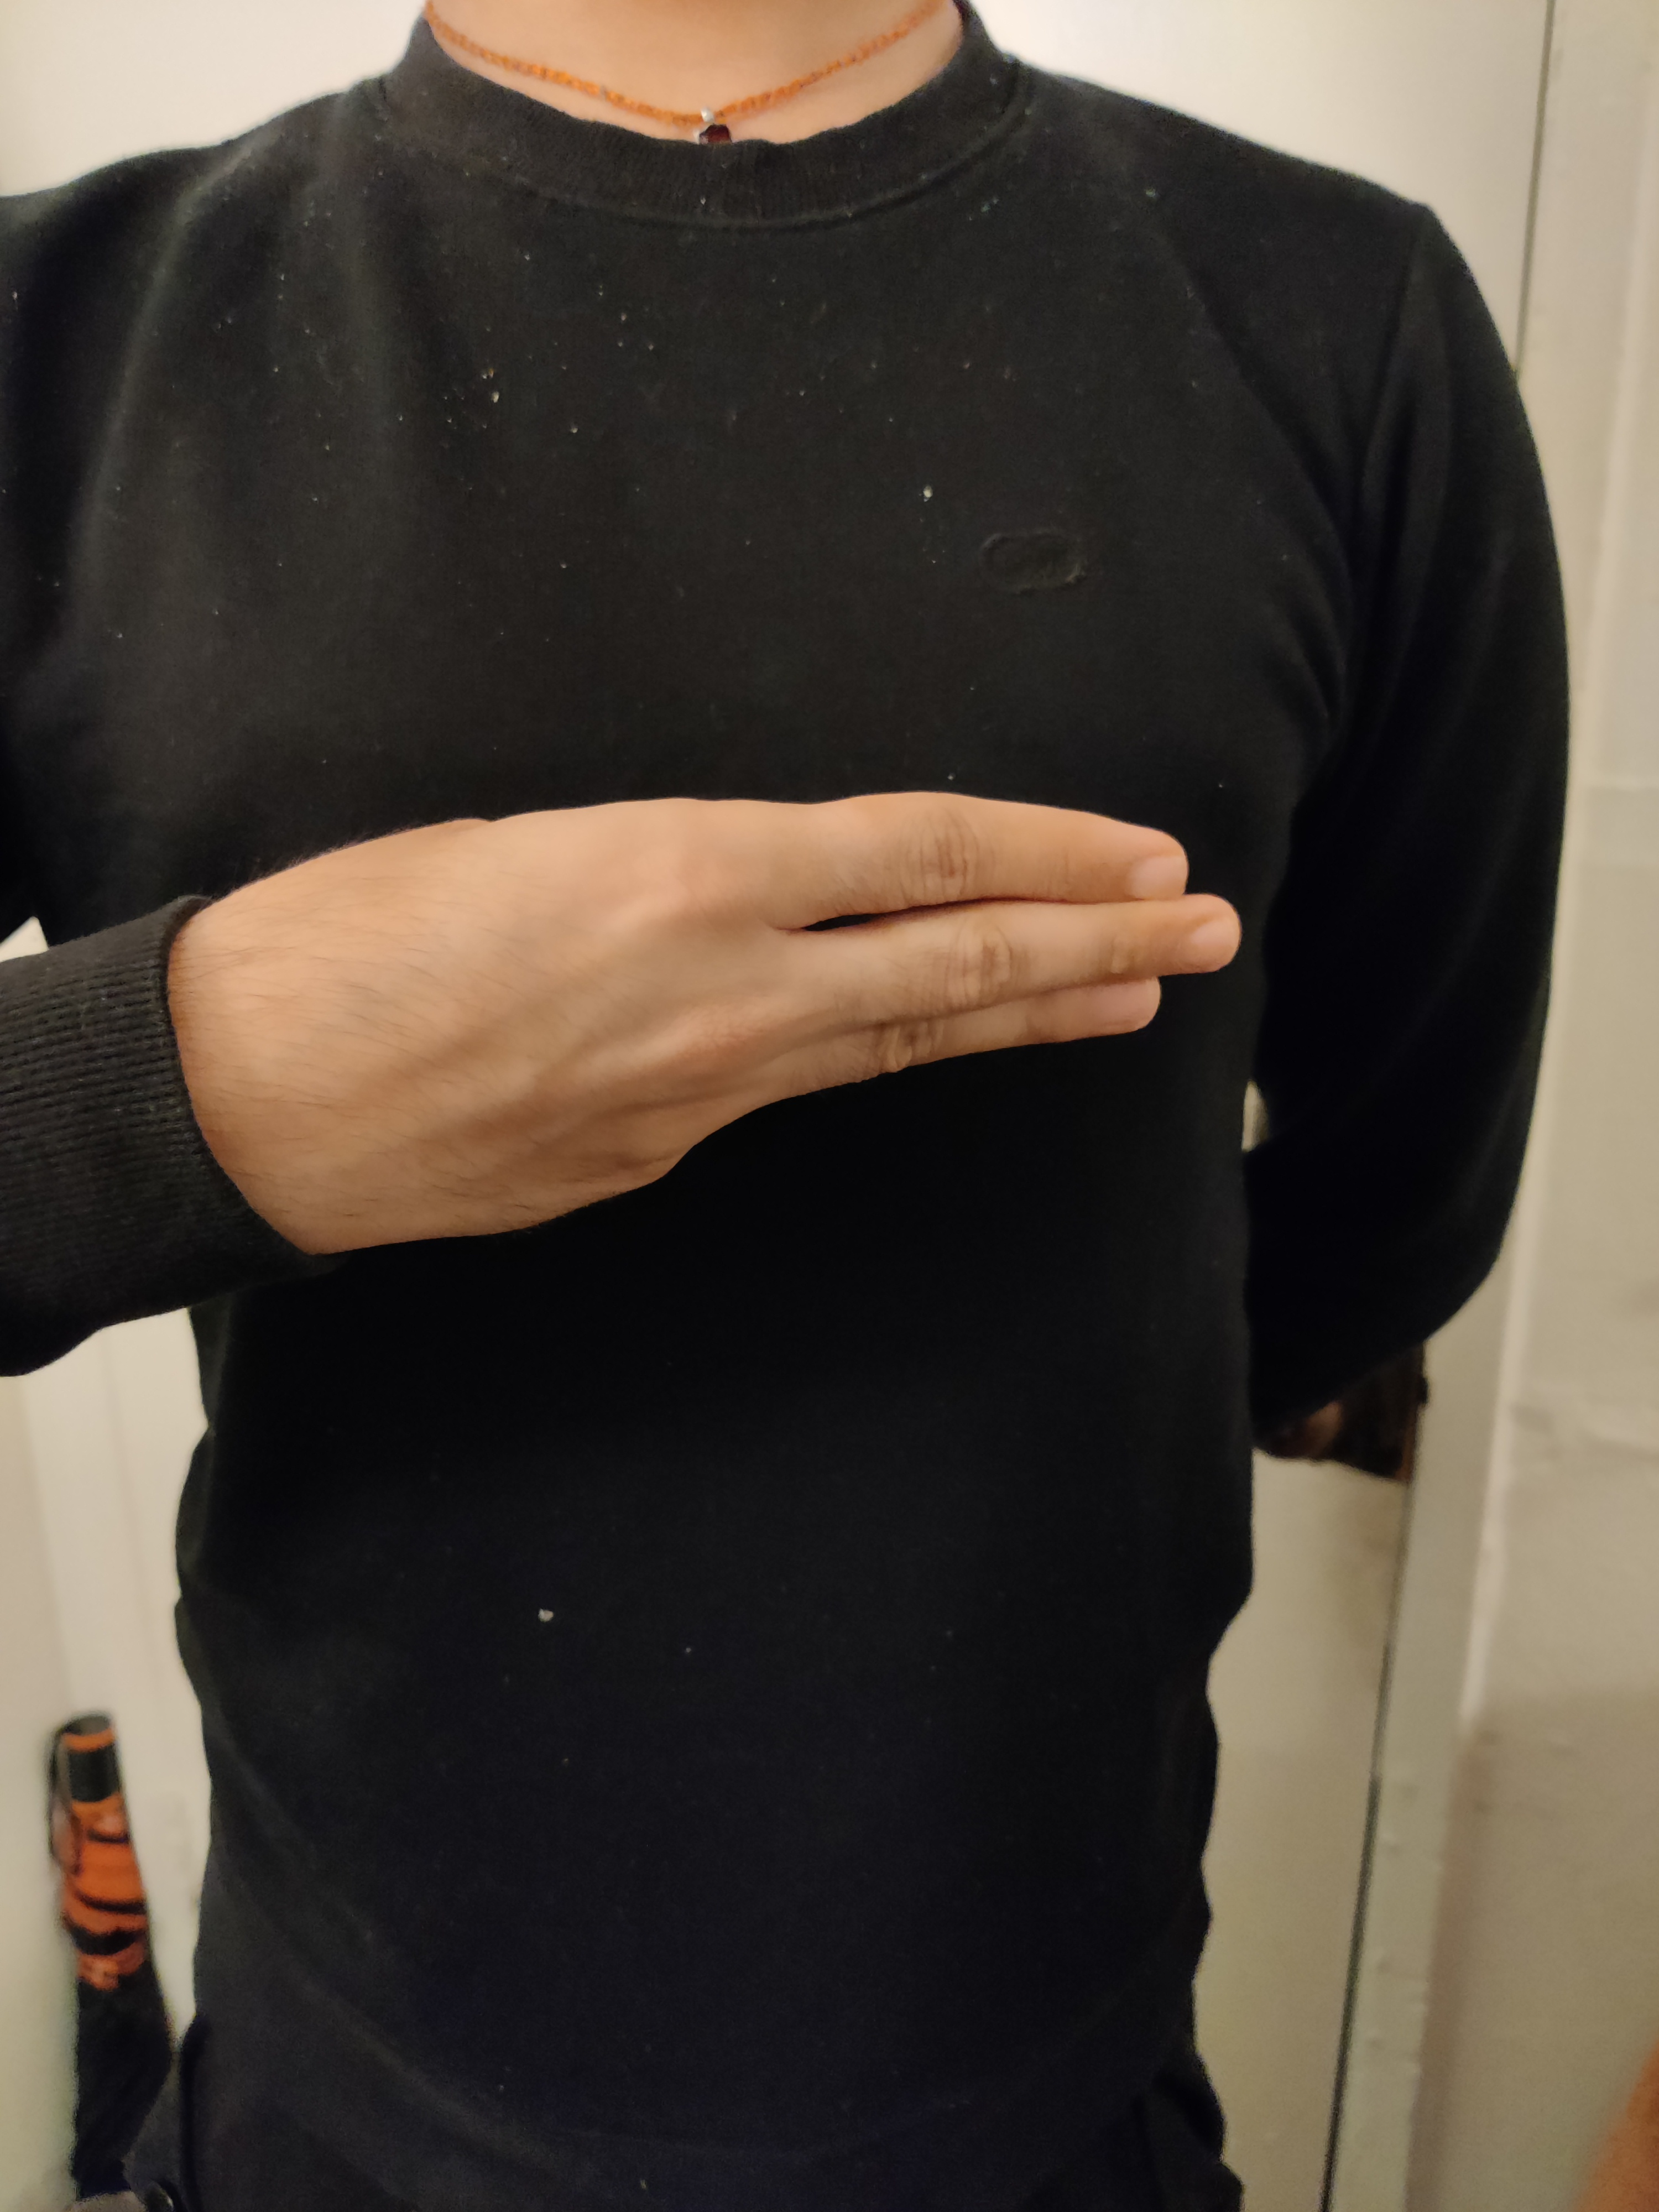left: (5, 538, 1391, 1505)
